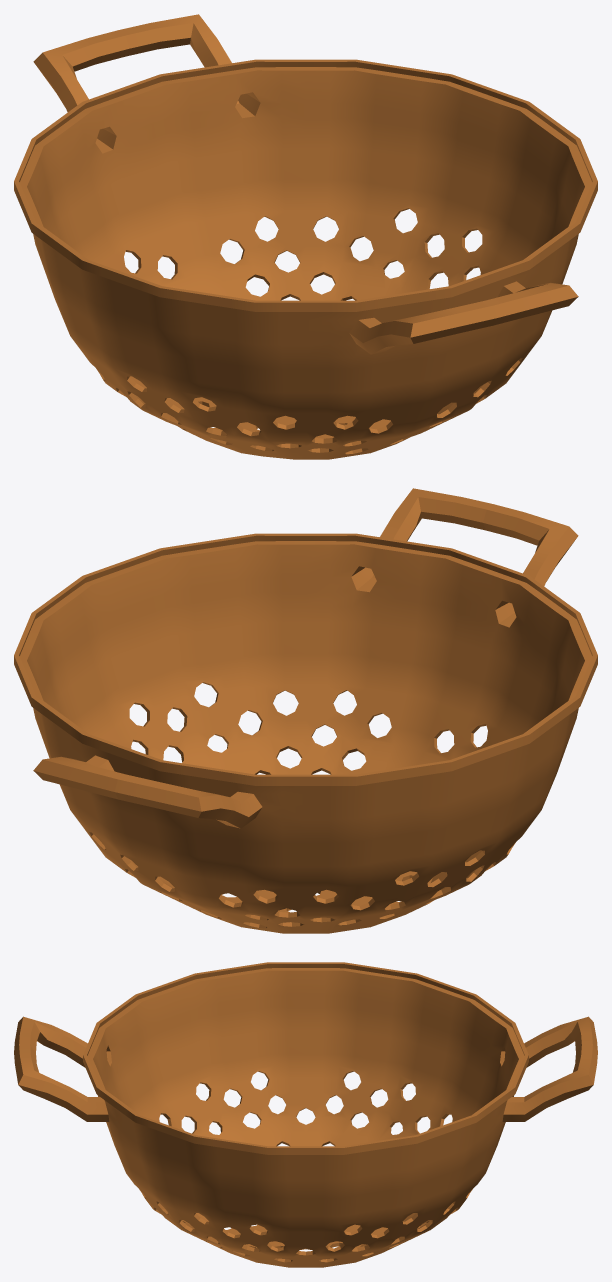
The model's file is durshlag.fbx.
The picture shows the model from 3 angles, top to bottom: view 1: azimuth 30°, elevation 25°; view 2: azimuth 150°, elevation 25°; view 3: azimuth 270°, elevation 25°; orthographic projection. The views are drawn at different scales.
Parts seen in each view (by area): view 1: Cylinder; view 2: Cylinder; view 3: Cylinder.
Part boxes in pixels (x1,y1,x2,y2): Cylinder: [14, 14, 597, 459]; Cylinder: [14, 488, 597, 933]; Cylinder: [14, 962, 597, 1267].
Size of the model in its own units: 1.16 by 0.5277 by 1.54.
